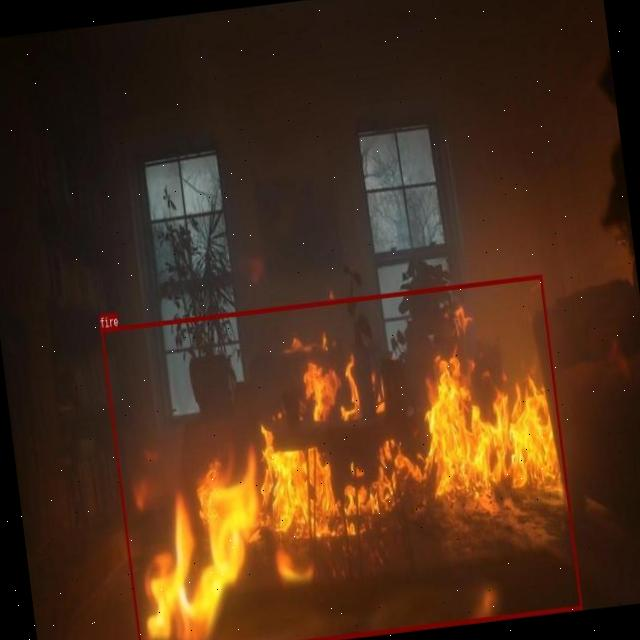fire: (99, 273, 582, 640)
